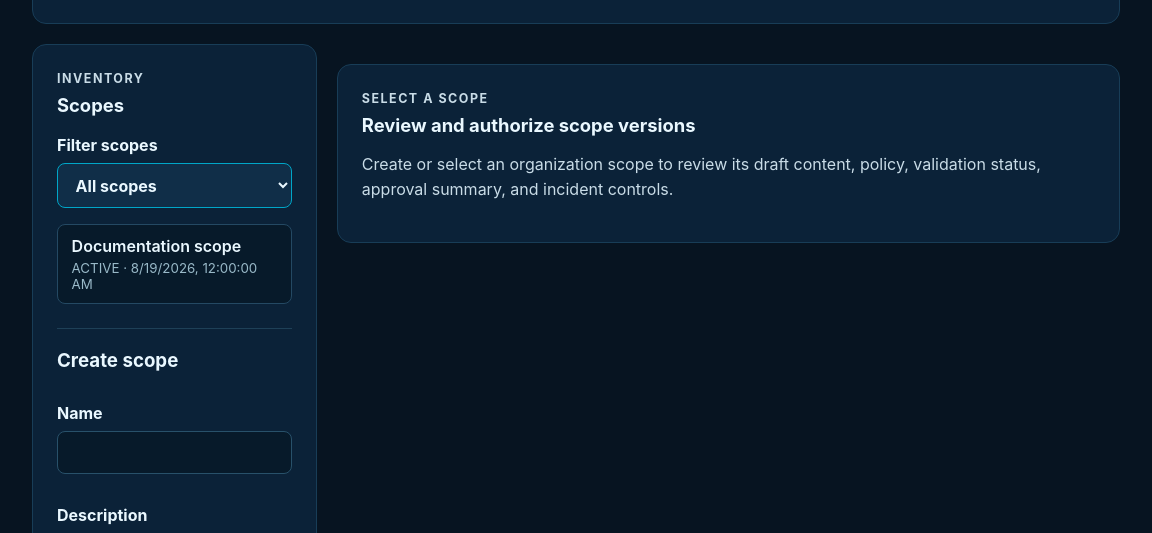
Test: ScopeAdmin › displays explicit blocking conflict status returned by validation
(page scrolled)
What coordinates should you click on to do the following:
click the button "Documentation scope ACTIVE · 8/19/2026, 12:00:00 AM"
I would click on:
 (174, 264)
Its box is [57,224,292,304].
(page scrolled)
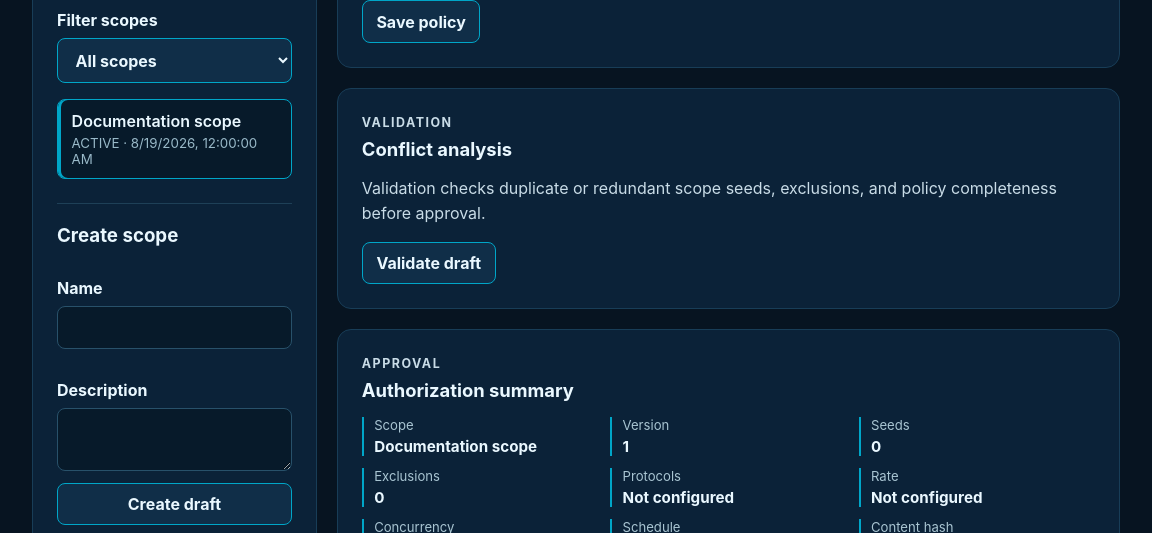
What coordinates should you click on to do the following:
click the button "Validate draft"
I would click on:
 (429, 263)
Its box is [362,242,496,284].
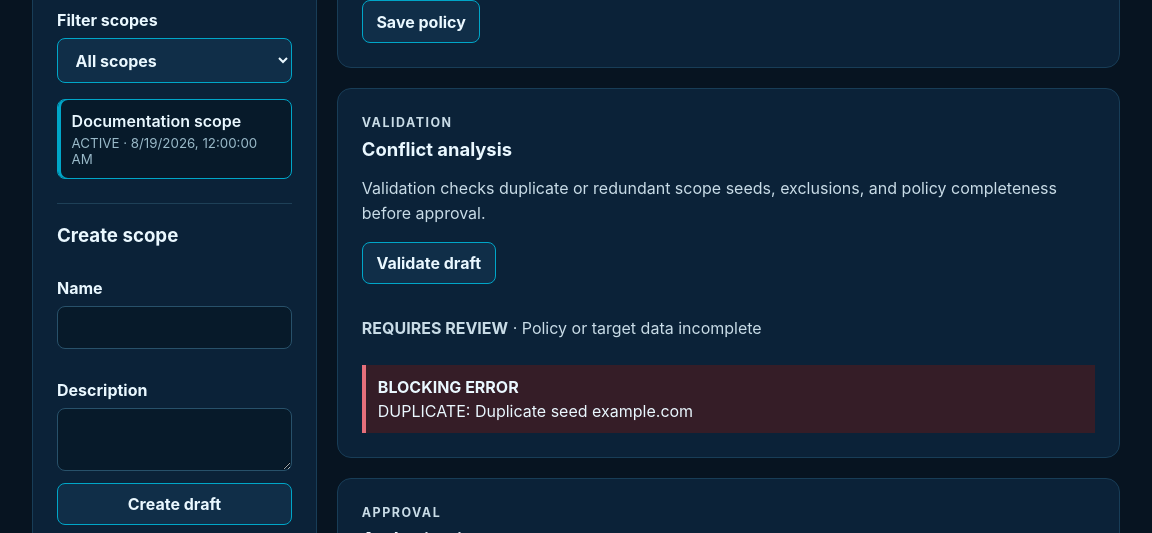
Result: the text "BLOCKING ERROR" is shown at [378,377,519,397]
Result: the text "DUPLICATE: Duplicate seed example.com" is shown at [378,401,693,421]
